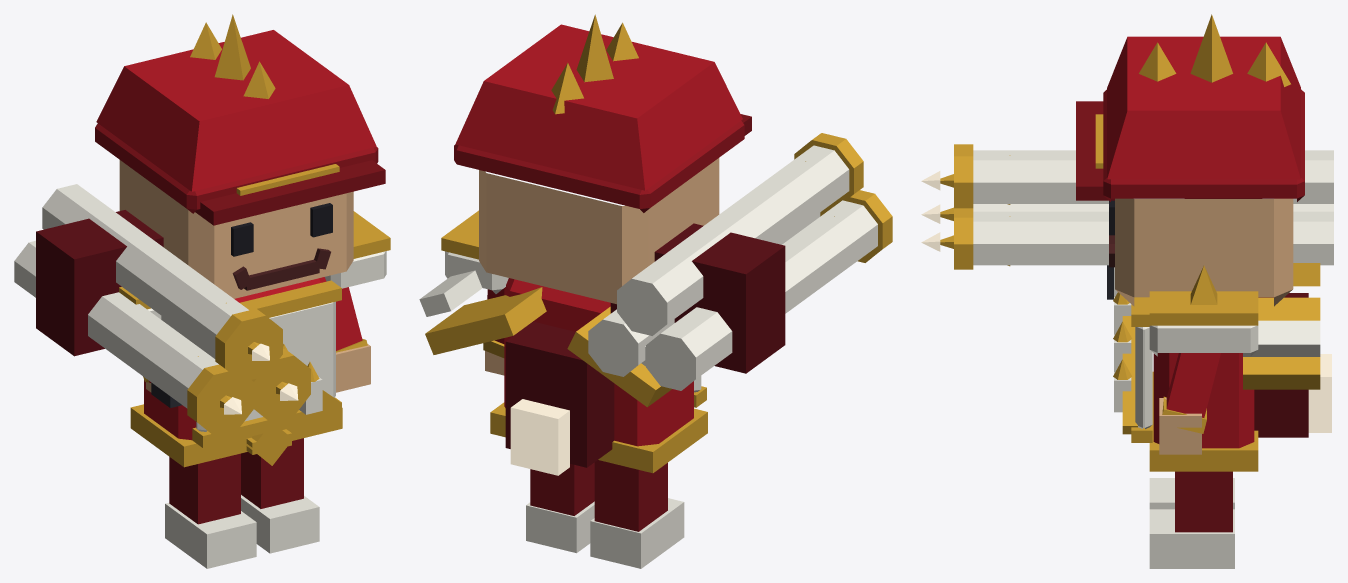
Rendered from rocket_soldier_legend.glb.
The picture shows the model from 3 angles, left to right: view 1: azimuth 30°, elevation 25°; view 2: azimuth 150°, elevation 25°; view 3: azimuth 270°, elevation 25°; orthographic projection. The views are drawn at different scales.
Parts seen in each view (by area): view 1: rocket_soldier_legend_mesh; view 2: rocket_soldier_legend_mesh; view 3: rocket_soldier_legend_mesh.
Part boxes in pixels (<box>): rocket_soldier_legend_mesh: <box>14,14,390,568</box>; rocket_soldier_legend_mesh: <box>419,14,892,568</box>; rocket_soldier_legend_mesh: <box>921,14,1333,568</box>.
Bounding box in the file's own units: 0.7843 × 1.3 × 0.923.
Materials: 2 (2 with a texture image).
